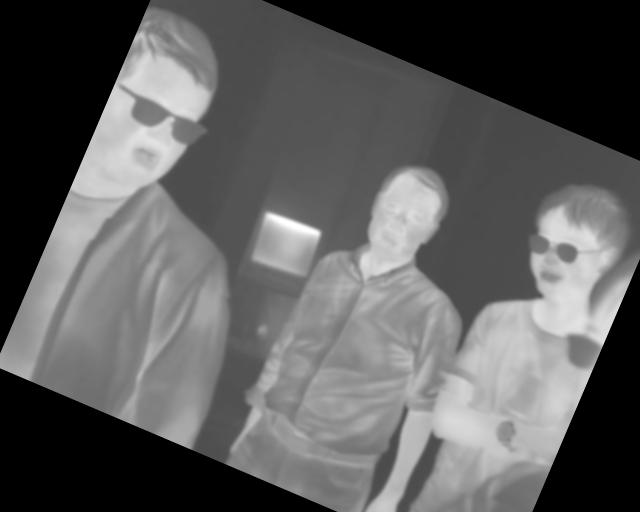face: (78, 1, 241, 208), (508, 166, 640, 317), (352, 151, 461, 274)
